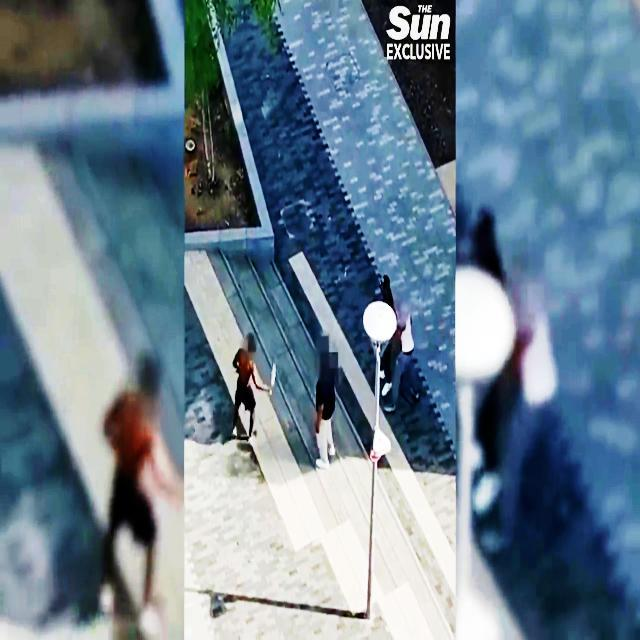Knife: (262, 349, 285, 405)
